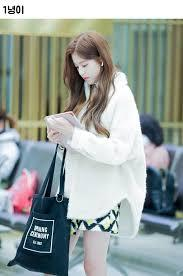earphone: (96, 57, 107, 68)
